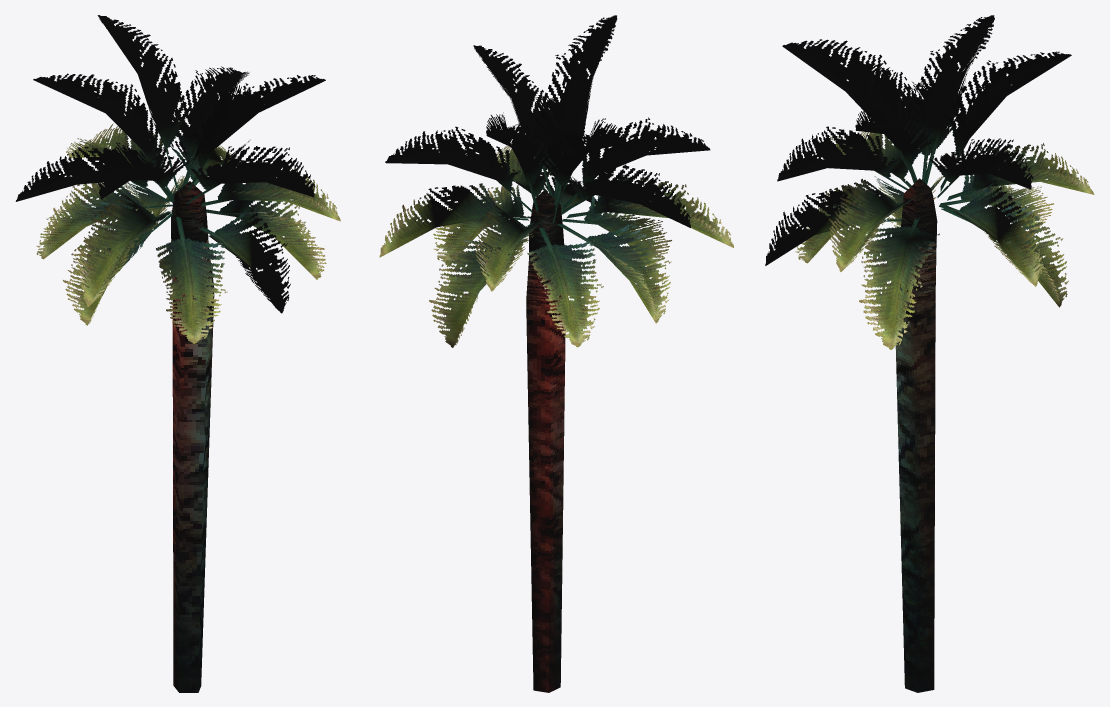
File: stage-amaz-p3-1083.glb
3 views of the same model, side by side, from view 1: azimuth 30°, elevation 25°; view 2: azimuth 150°, elevation 25°; view 3: azimuth 270°, elevation 25° (orthographic). The views are drawn at different scales.
Bounding box in the file's own units: 38.15 × 77.17 × 35.81.
Materials: 2 (2 with a texture image).
